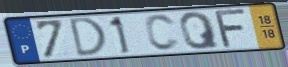1: (108, 15, 133, 55)
7: (34, 18, 66, 60)
C: (143, 13, 183, 53)
D: (68, 16, 109, 59)
F: (214, 7, 250, 50)
Q: (177, 11, 222, 51)
